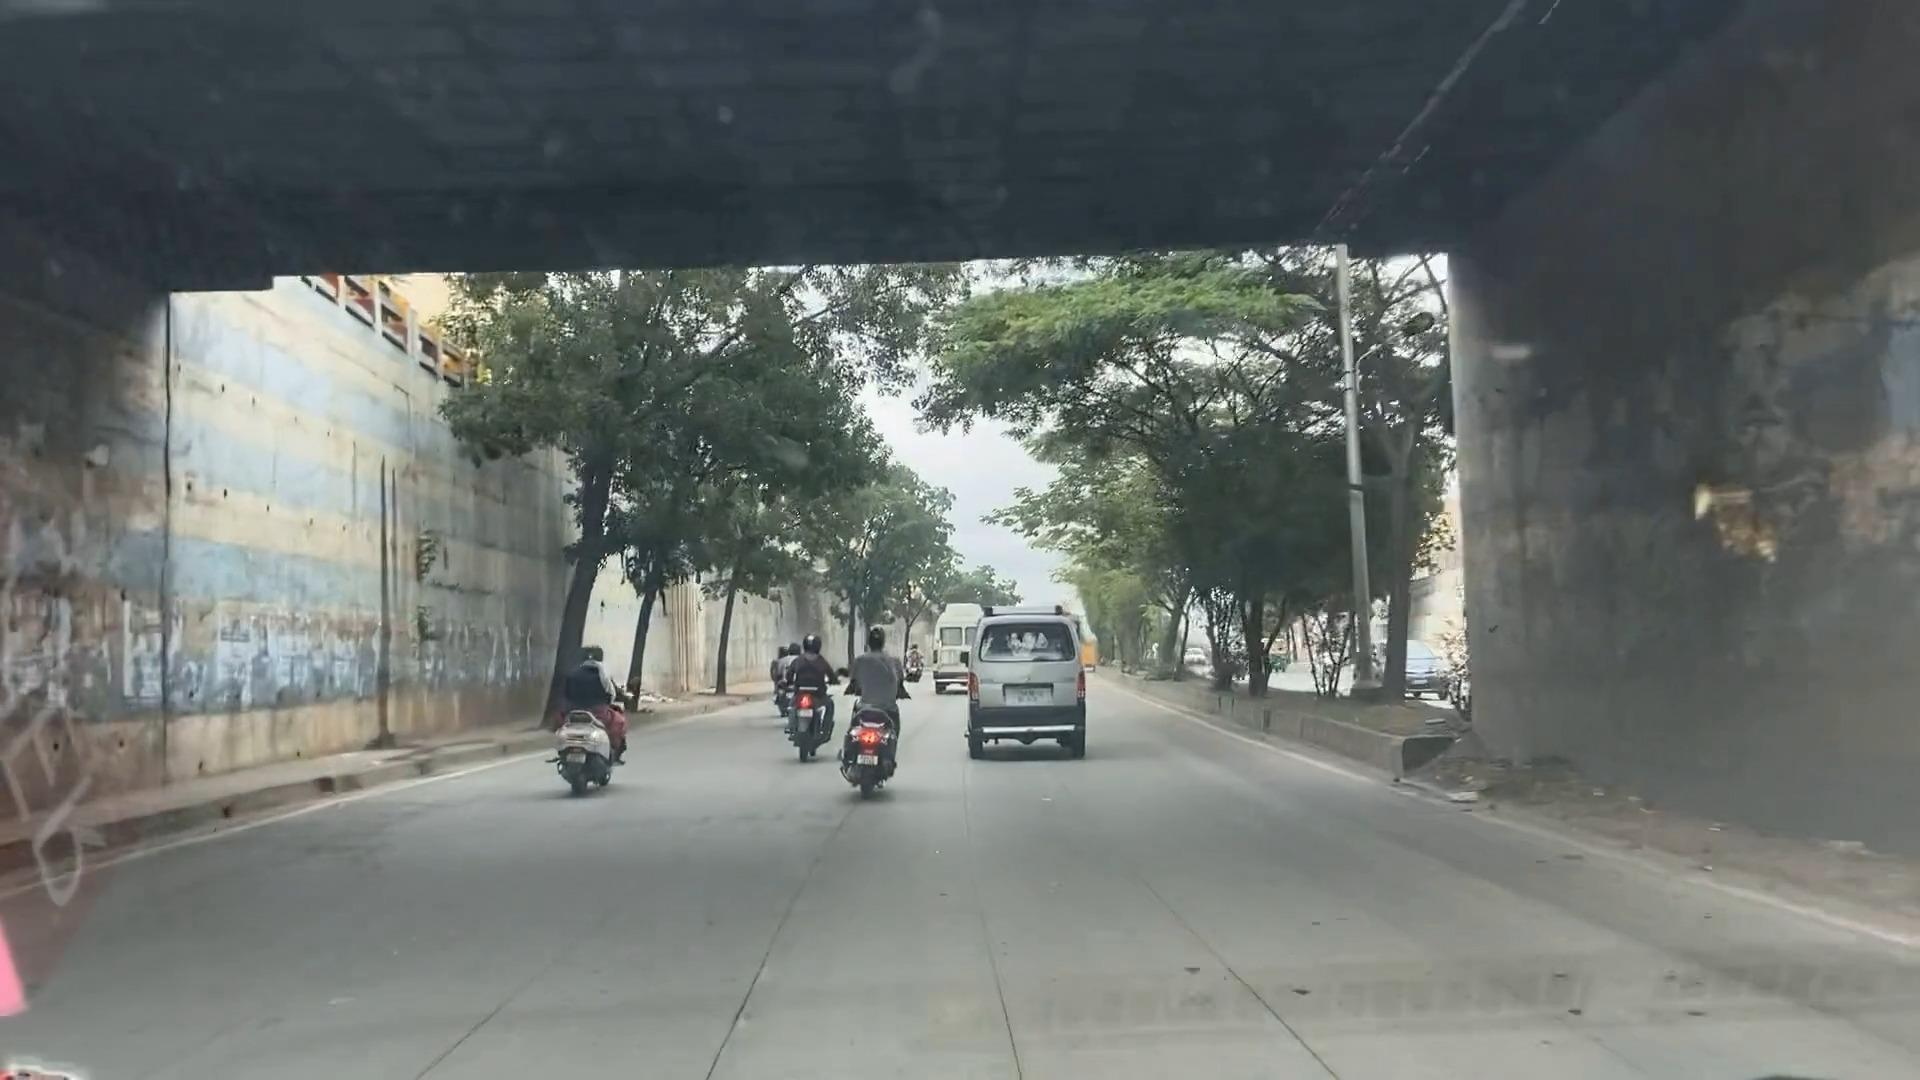LMV: (935, 613, 1091, 764), (841, 623, 915, 812), (550, 625, 633, 792), (783, 638, 833, 756)
